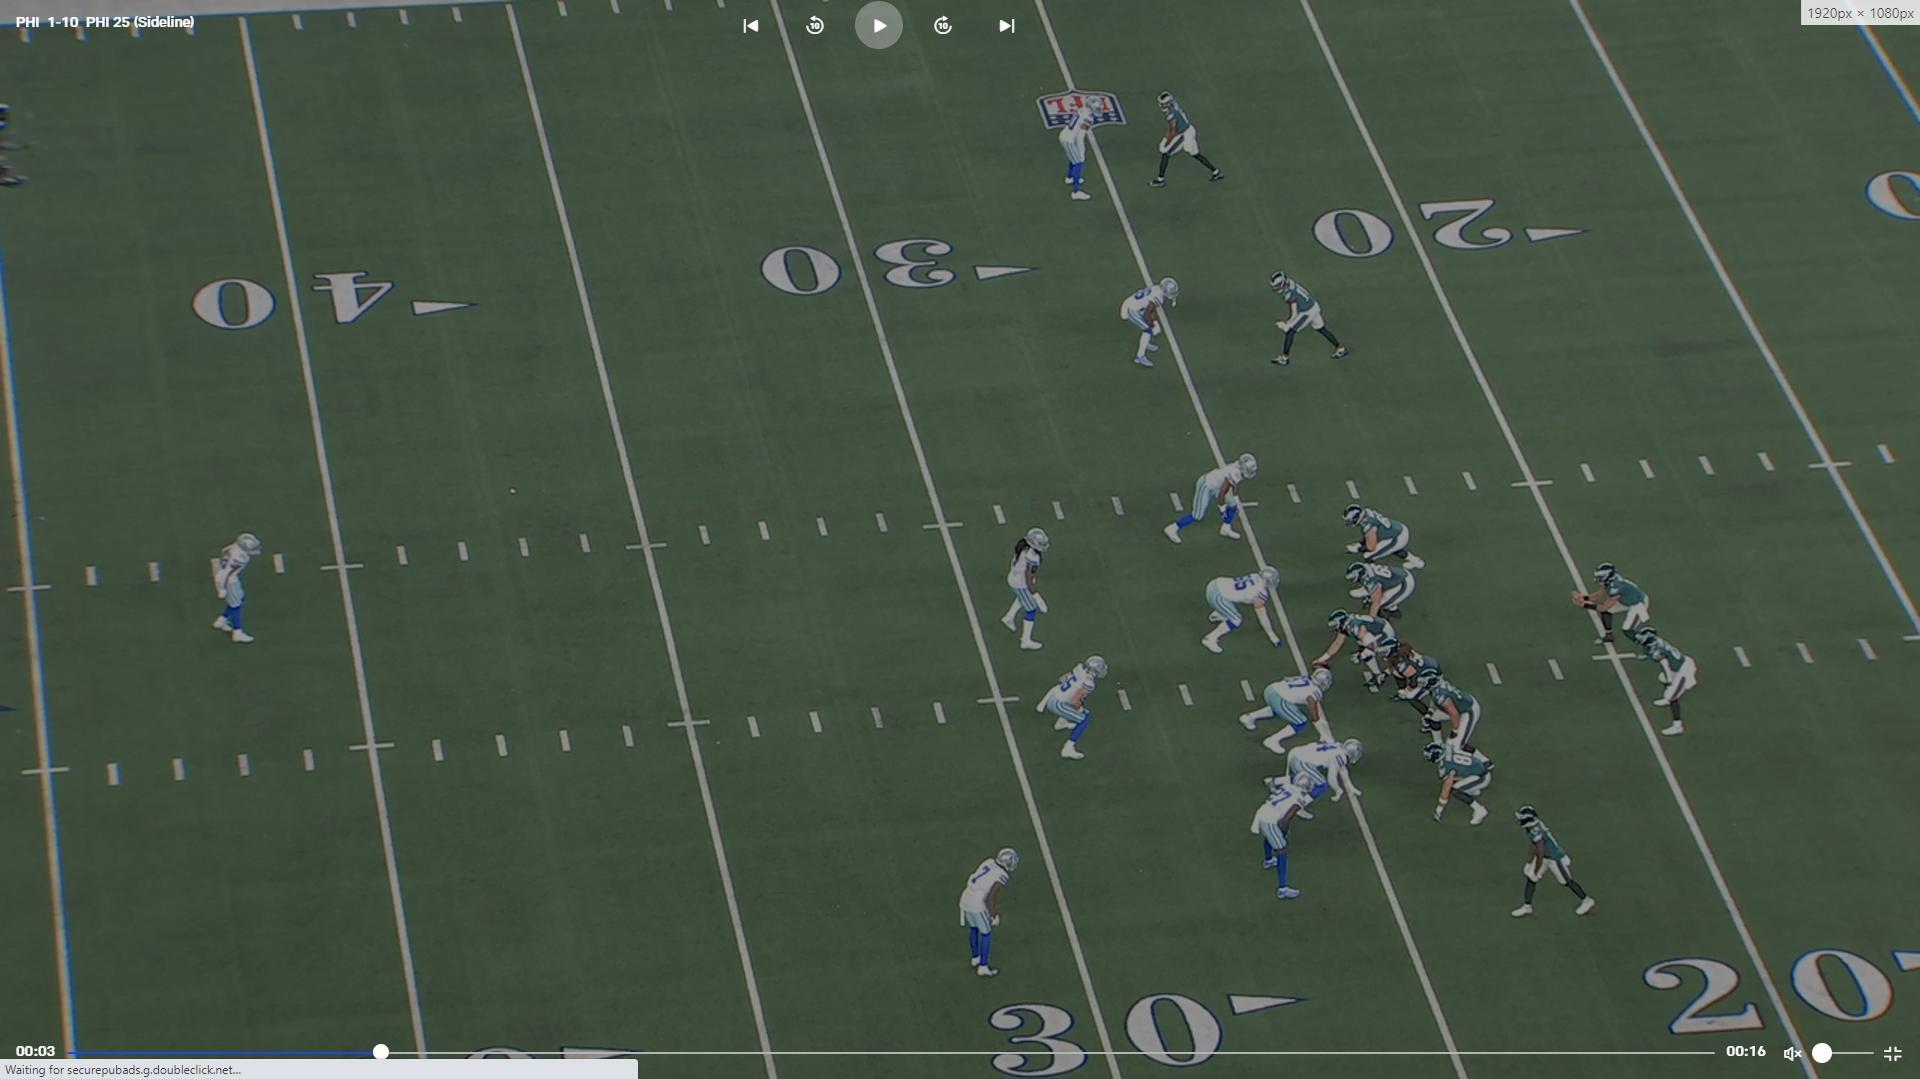defense: (1167, 448, 1269, 549), (1240, 667, 1340, 758), (963, 843, 1029, 979), (1253, 769, 1317, 905), (1263, 739, 1364, 822), (1196, 567, 1283, 657), (1042, 654, 1108, 765), (1006, 525, 1062, 656), (207, 530, 262, 650), (1120, 273, 1185, 372), (1052, 94, 1100, 210)
oline: (1316, 609, 1402, 690), (1342, 501, 1428, 580), (1423, 674, 1491, 766), (1379, 646, 1449, 728), (1344, 561, 1415, 634)
qb: (1572, 559, 1656, 666)
skill: (1511, 803, 1606, 923), (1263, 265, 1354, 371), (1147, 84, 1229, 193), (1638, 628, 1702, 743), (1427, 740, 1499, 830)
